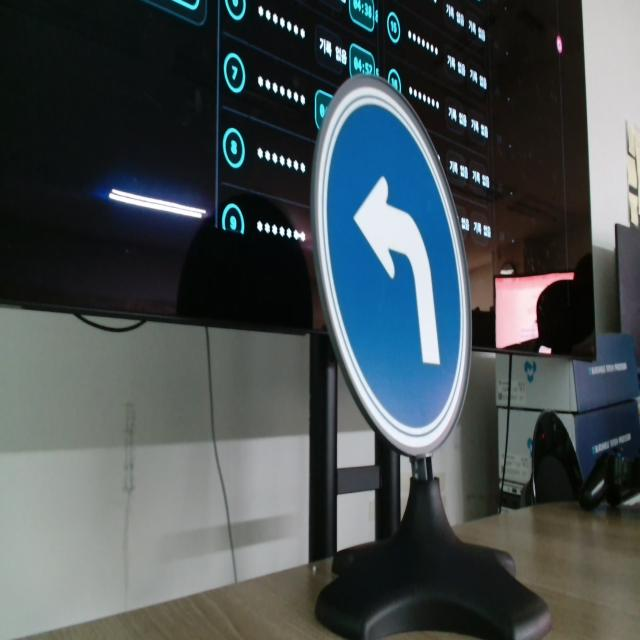left_direction: (309, 74, 473, 455)
